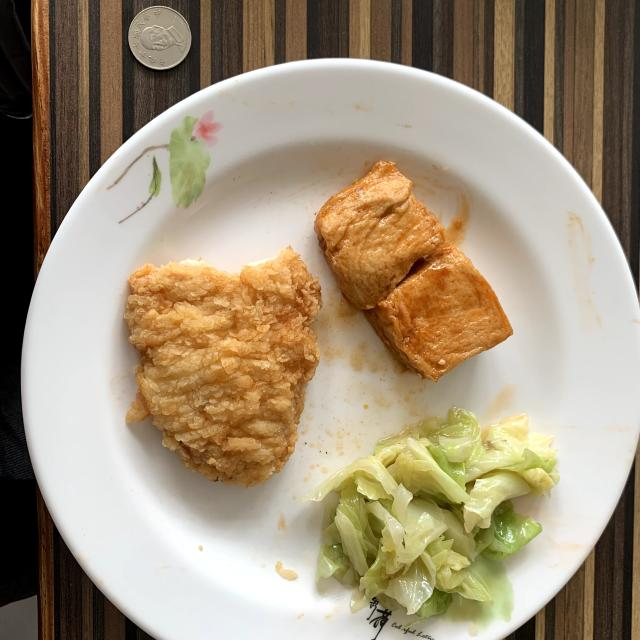cabbage: (305, 409, 559, 622)
coin: (129, 6, 191, 70)
creamy tofu: (315, 161, 512, 380)
fried chicken cutlet: (125, 248, 321, 488)
